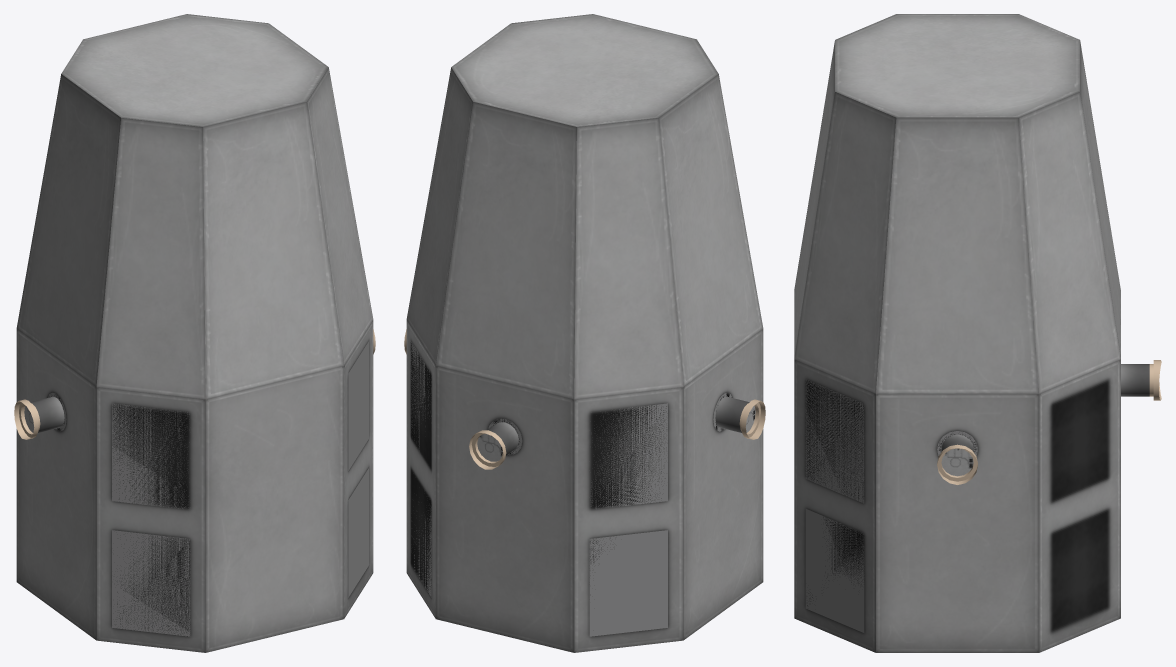
File: airlock interior.obj
3 views of the same model, side by side, from view 1: azimuth 30°, elevation 25°; view 2: azimuth 150°, elevation 25°; view 3: azimuth 270°, elevation 25° (orthographic). The views are drawn at different scales.
Visible parts, largest first — view 1: i3, mask; view 2: i3, mask, iw1; view 3: i3, mask, iw1.
Boxes of the visible parts, x1,y1,x2,y2 form: i3: (16, 14, 373, 652); mask: (14, 329, 375, 439); i3: (406, 14, 763, 652); mask: (404, 329, 765, 469); iw1: (477, 406, 755, 461); i3: (794, 14, 1149, 652); mask: (937, 360, 1161, 484); iw1: (941, 448, 973, 476).
Size of the model in its own units: 1.25 by 1.75 by 1.12.
3 materials, 2 textured.
